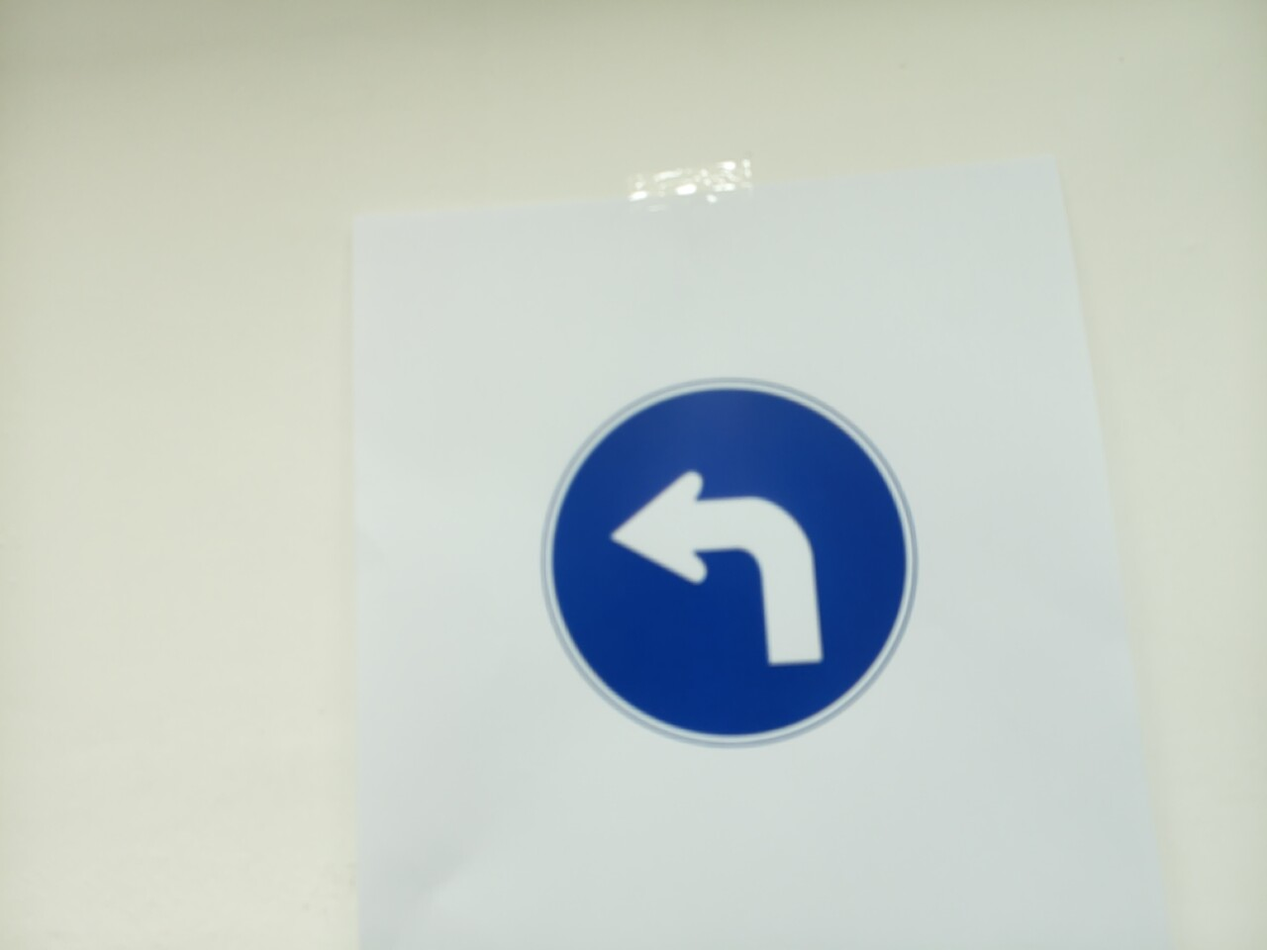left_turn: (541, 377, 918, 746)
